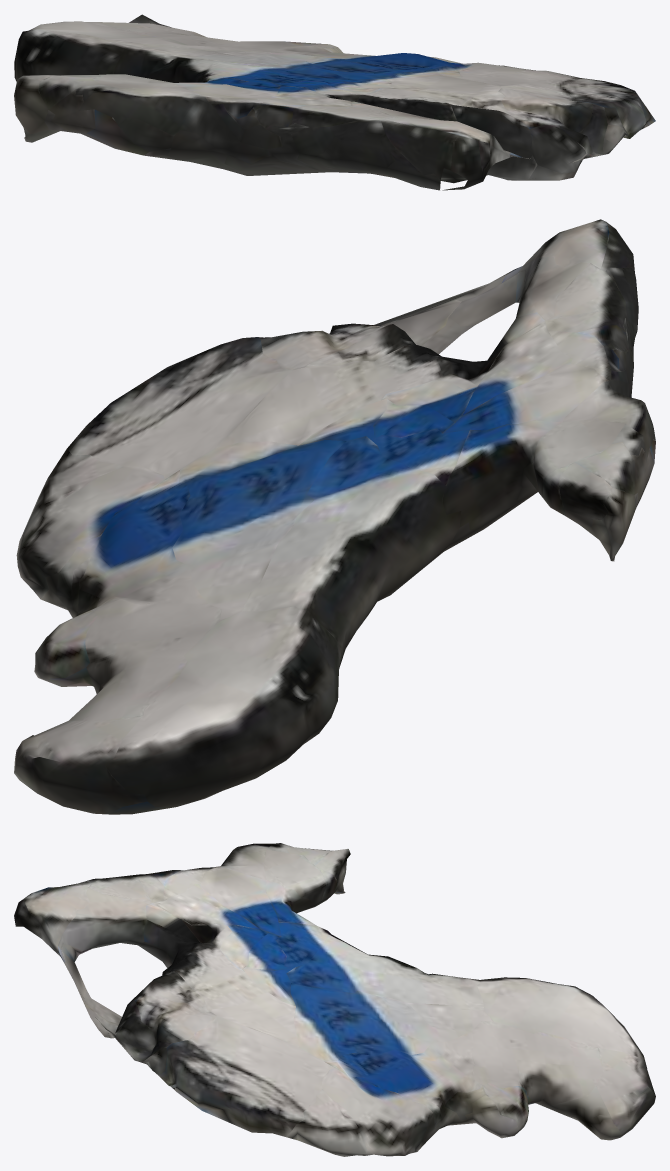
File: hall.glb
3 renders of one model, top to bottom at view 1: azimuth 30°, elevation 25°; view 2: azimuth 150°, elevation 25°; view 3: azimuth 270°, elevation 25°, orthographic. The views are drawn at different scales.
Bounding box in the file's own units: 0.5077 × 0.2415 × 0.69.
1 material, 1 textured.
